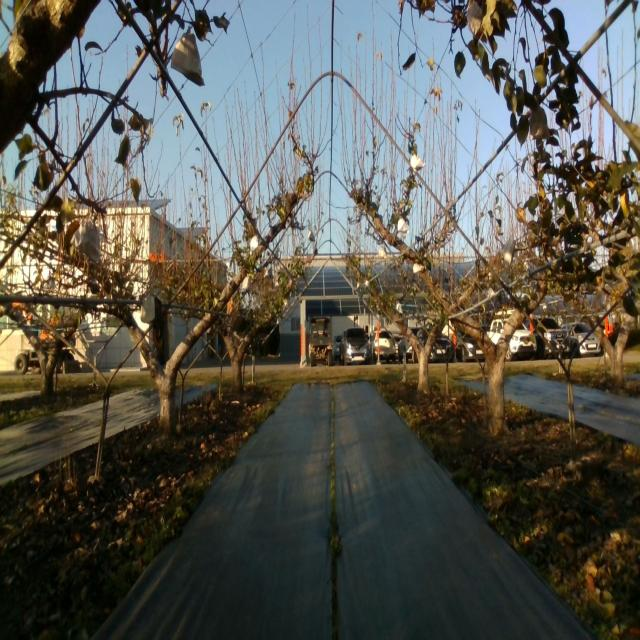pearbags: (171, 24, 204, 85), (70, 215, 100, 264), (466, 0, 484, 41), (529, 107, 548, 142), (502, 238, 516, 270), (410, 154, 426, 172)
